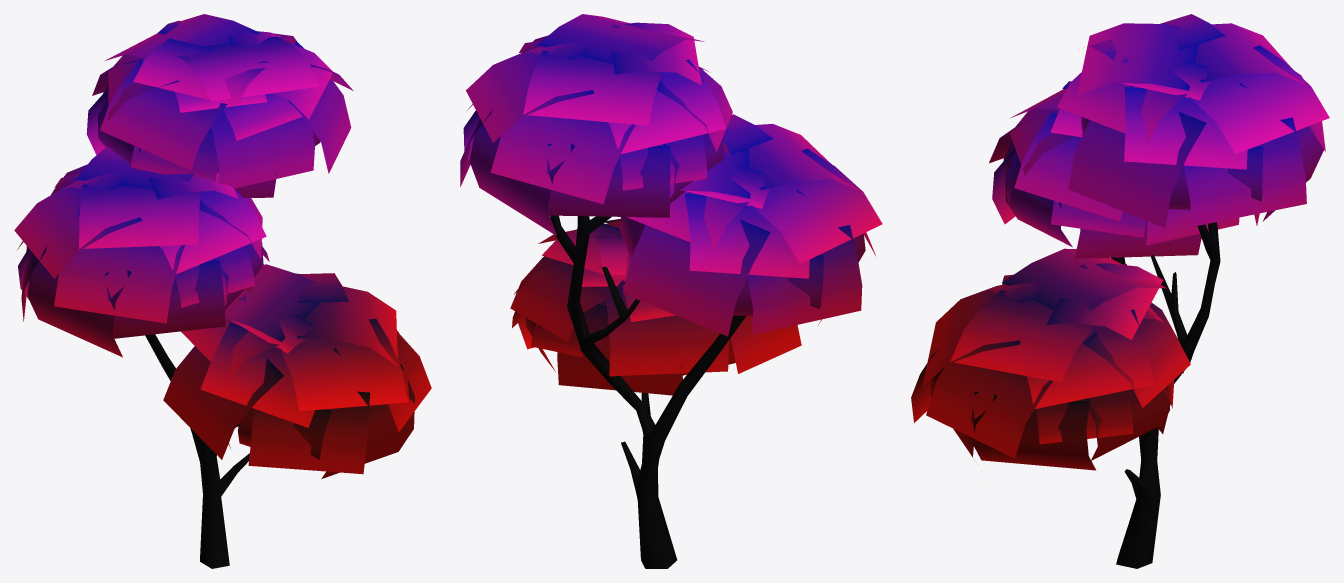
File: tree4_B.fbx
3 views of the same model, side by side, from view 1: azimuth 30°, elevation 25°; view 2: azimuth 150°, elevation 25°; view 3: azimuth 270°, elevation 25° (orthographic). The views are drawn at different scales.
Parts seen in each view (by area): view 1: Tree_03_a_LOD0; view 2: Tree_03_a_LOD0; view 3: Tree_03_a_LOD0.
Boxes of the visible parts, x1,y1,x2,y2 form: Tree_03_a_LOD0: [14, 14, 431, 568]; Tree_03_a_LOD0: [460, 14, 882, 568]; Tree_03_a_LOD0: [911, 14, 1329, 568].
Size of the model in its own units: 295 by 395 by 284.
